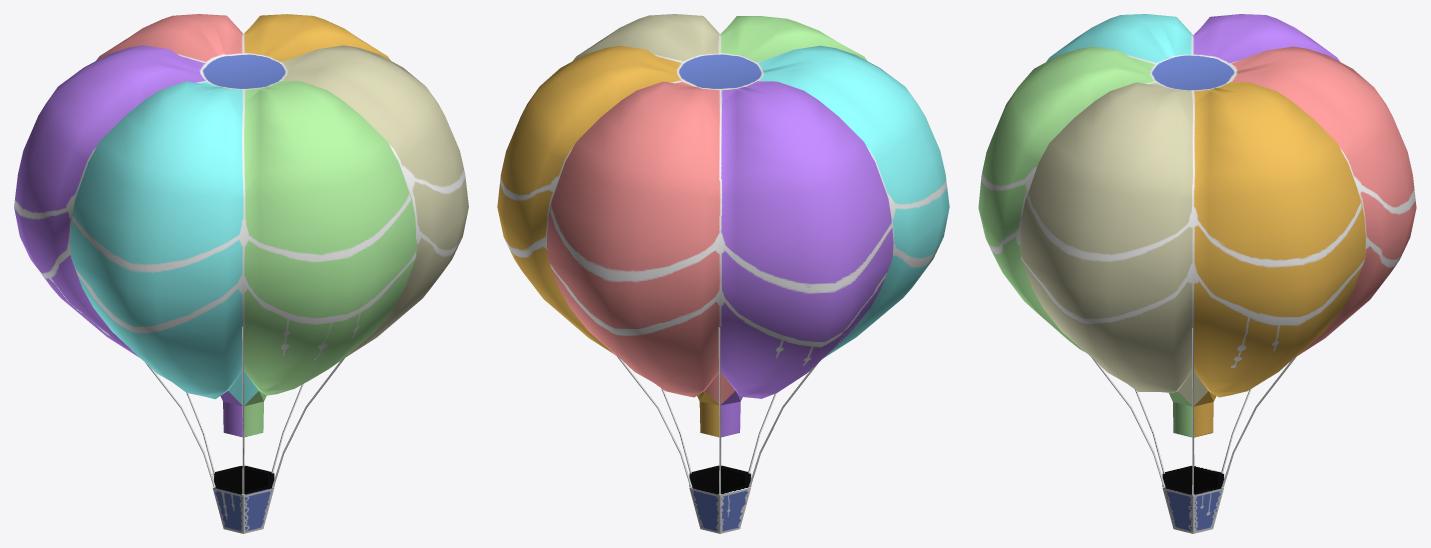
3 views of the same model, side by side, from view 1: azimuth 30°, elevation 25°; view 2: azimuth 150°, elevation 25°; view 3: azimuth 270°, elevation 25° (orthographic).
Parts seen in each view (by area): view 1: SM_Balloon; view 2: SM_Balloon; view 3: SM_Balloon.
Boxes of the visible parts, x1,y1,x2,y2 form: SM_Balloon: (14, 14, 468, 533); SM_Balloon: (497, 14, 949, 533); SM_Balloon: (978, 14, 1416, 533).
Size of the model in its own units: 1195 by 1471 by 1254.
1 material, 1 textured.
